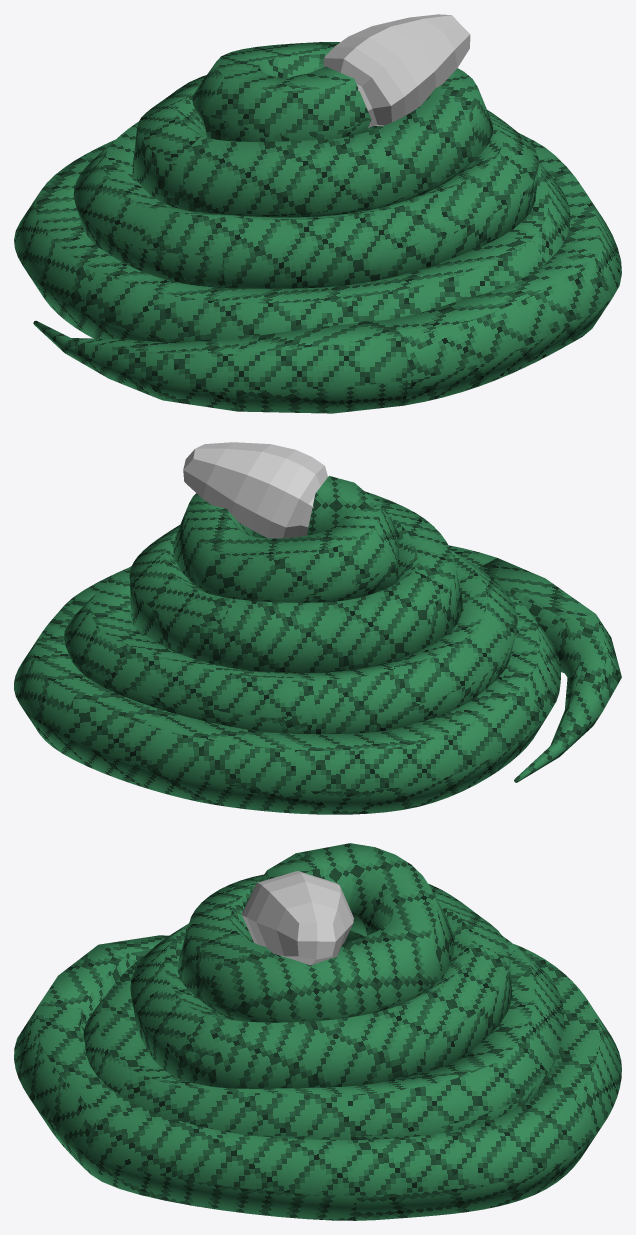
The model's file is BigSnake.fbx.
3 views of the same model, one above another, from view 1: azimuth 30°, elevation 25°; view 2: azimuth 150°, elevation 25°; view 3: azimuth 270°, elevation 25° (orthographic). The views are drawn at different scales.
Parts seen in each view (by area): view 1: BezierCurve, Cube; view 2: BezierCurve, Cube; view 3: BezierCurve, Cube.
Boxes of the visible parts, <box> form: BezierCurve: <box>14,42,621,413</box>; Cube: <box>323,14,470,127</box>; BezierCurve: <box>14,476,621,814</box>; Cube: <box>183,442,327,538</box>; BezierCurve: <box>14,843,621,1220</box>; Cube: <box>241,871,353,965</box>.
Size of the model in its own units: 8681 by 3969 by 8686.
